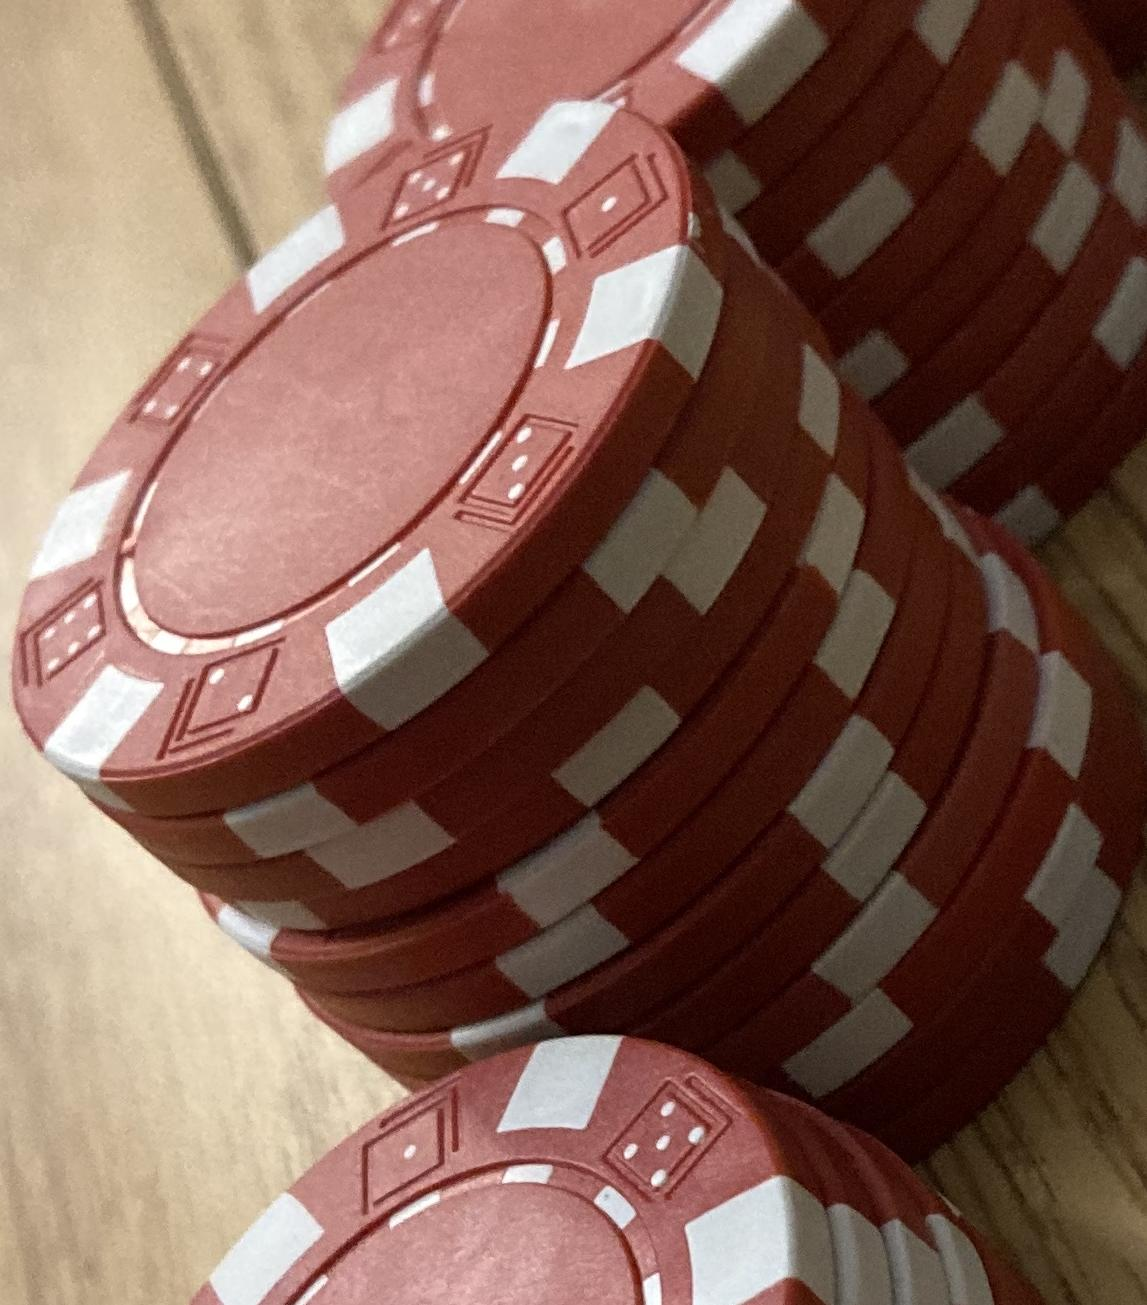Chip: (1, 1, 1147, 1305)
